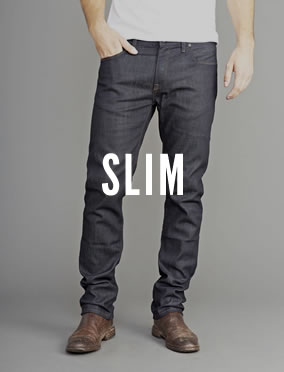jeans: (67, 32, 224, 327)
